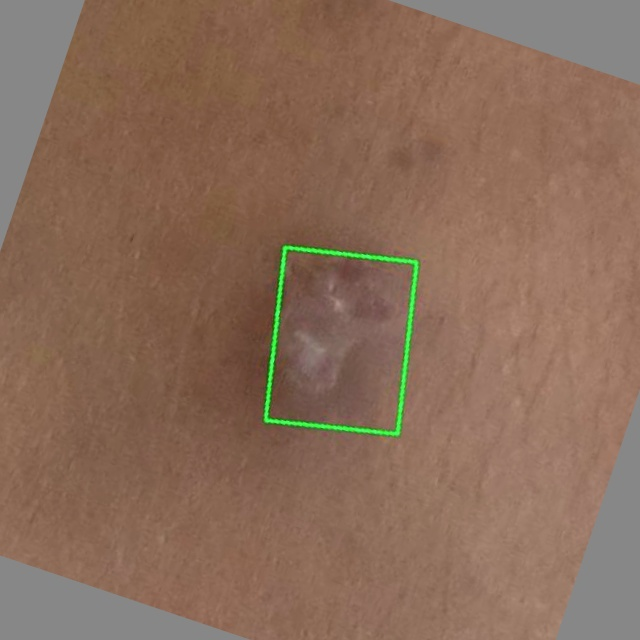Contact Dermatitis: (265, 248, 415, 434)
